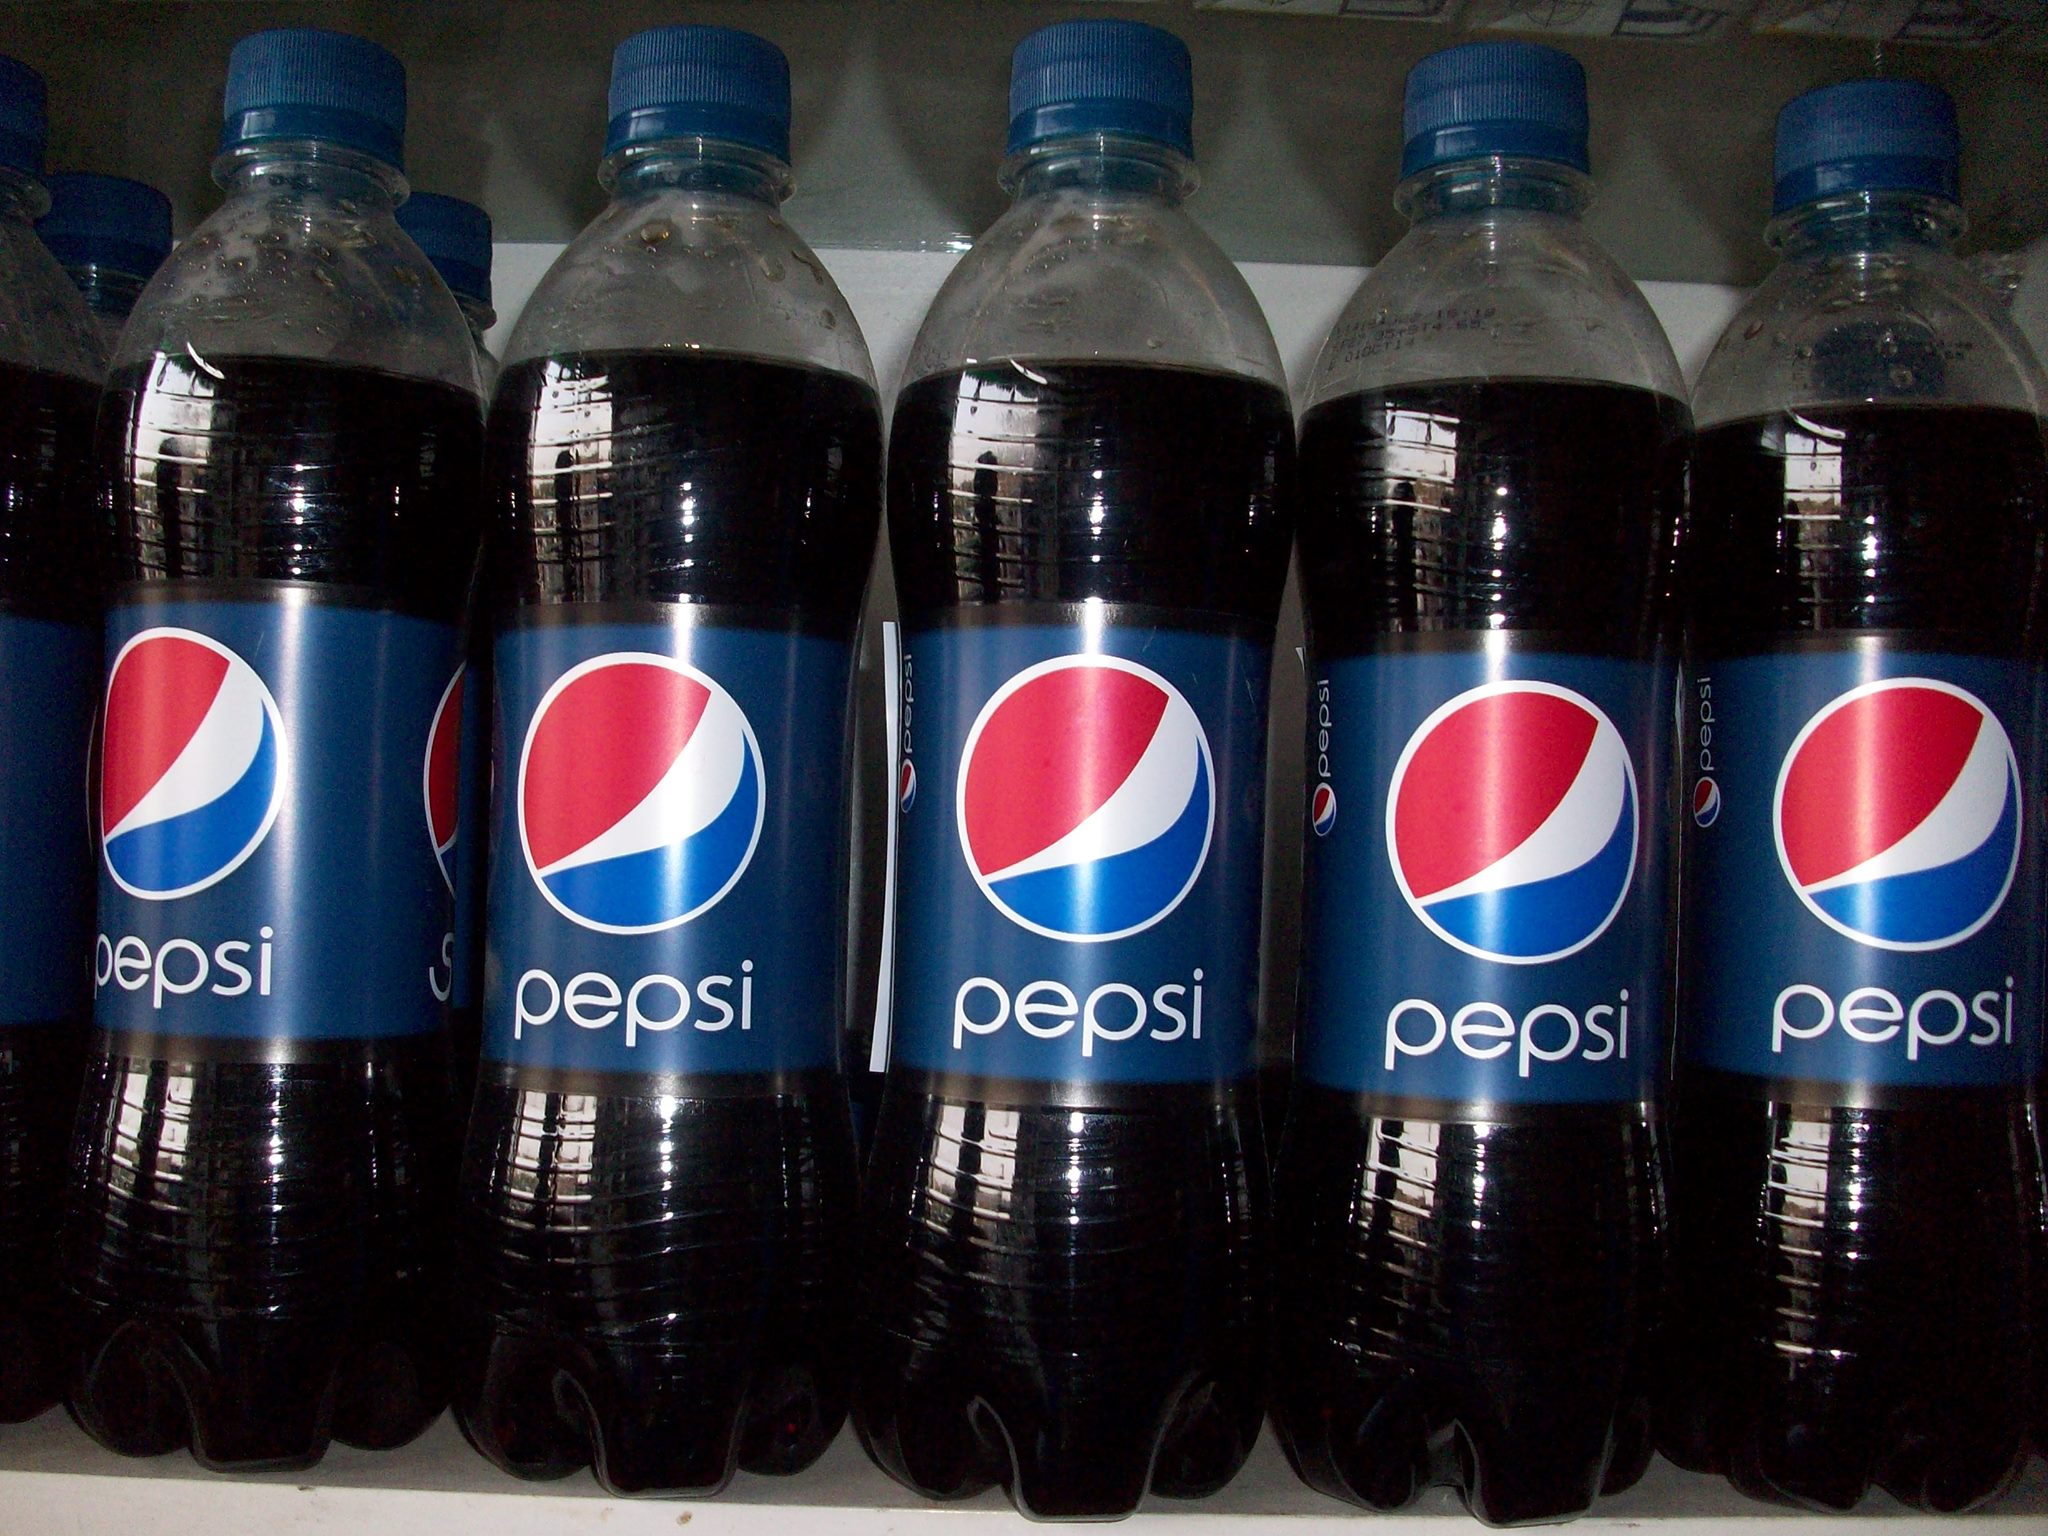pepsi: (943, 647, 1213, 1065), (1363, 674, 1642, 1078), (1748, 679, 2033, 1062), (506, 647, 764, 1062), (85, 629, 285, 1016)
